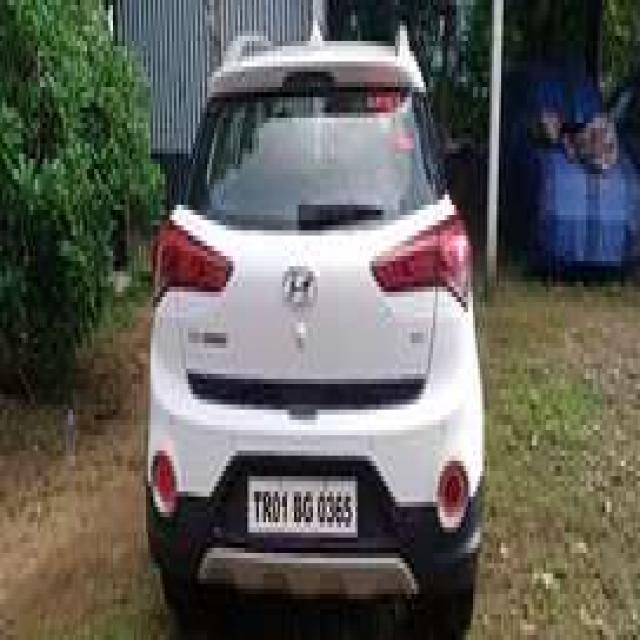Plate: (246, 472, 356, 528)
